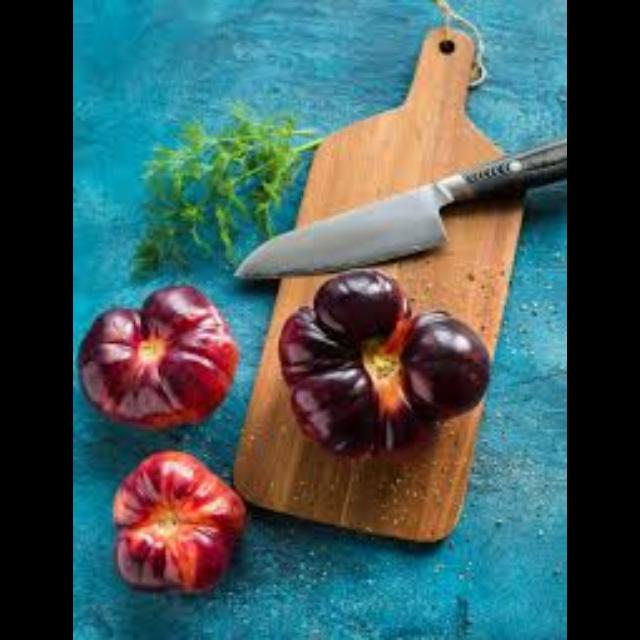knife: (232, 123, 564, 281)
